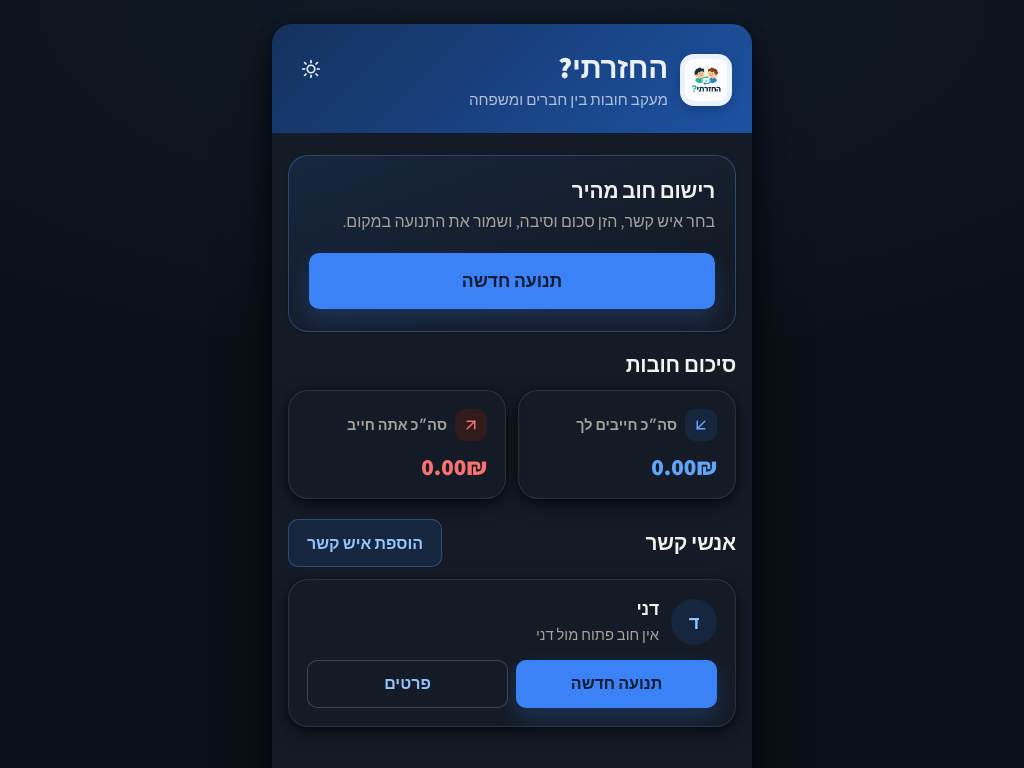
Scenario: App › Edit Member › successfully renames a member and the new name appears in the detail screen
The image size is (1024, 768).
Click the button "פרטים": [408, 684] box [307,660,508,708]
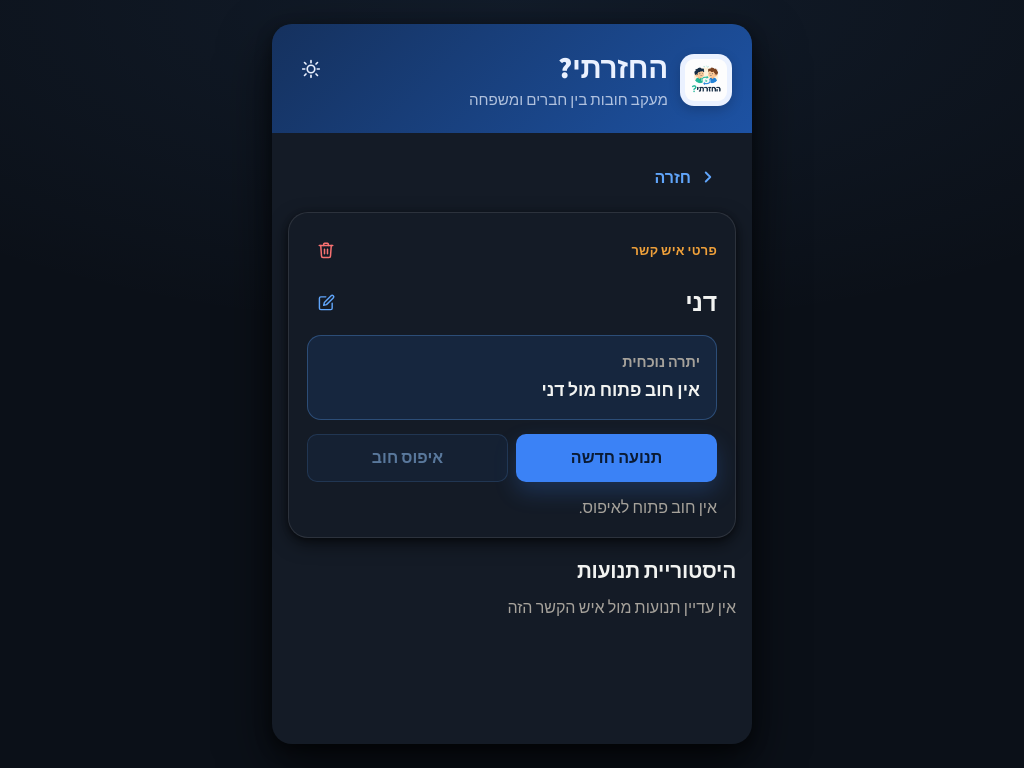
Click the button named "שינוי שם": [326, 302] box [307,283,345,321]
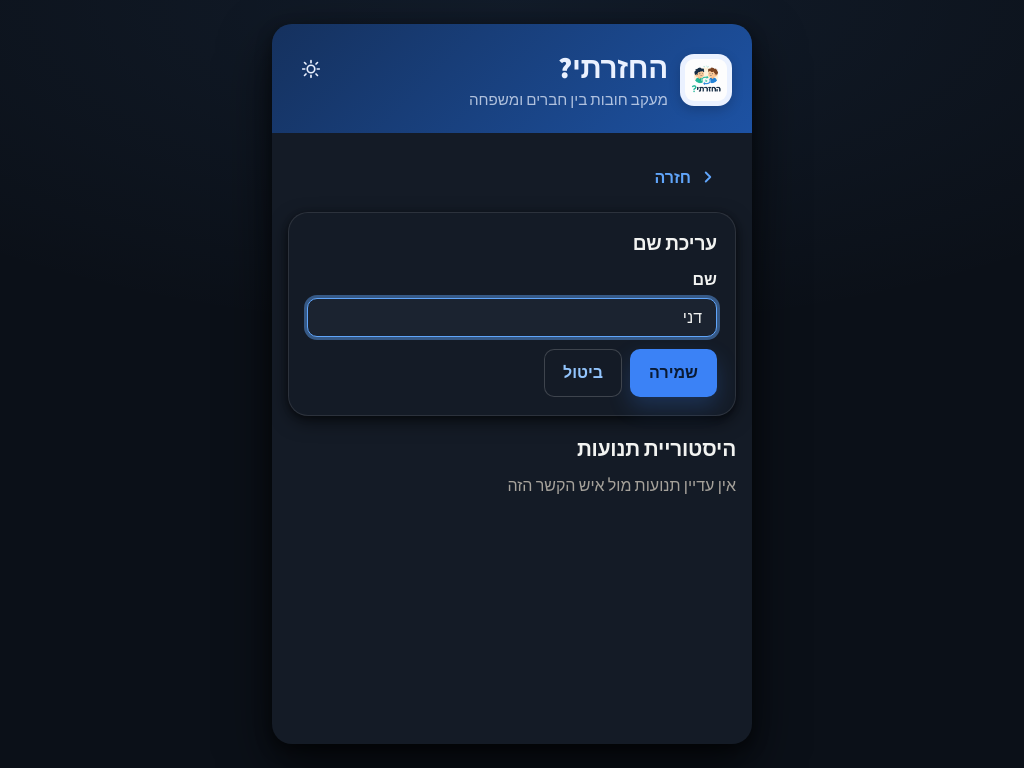
Replace the text in the field labelled "שם" with "דוד": [512, 317] box [307,298,717,337]
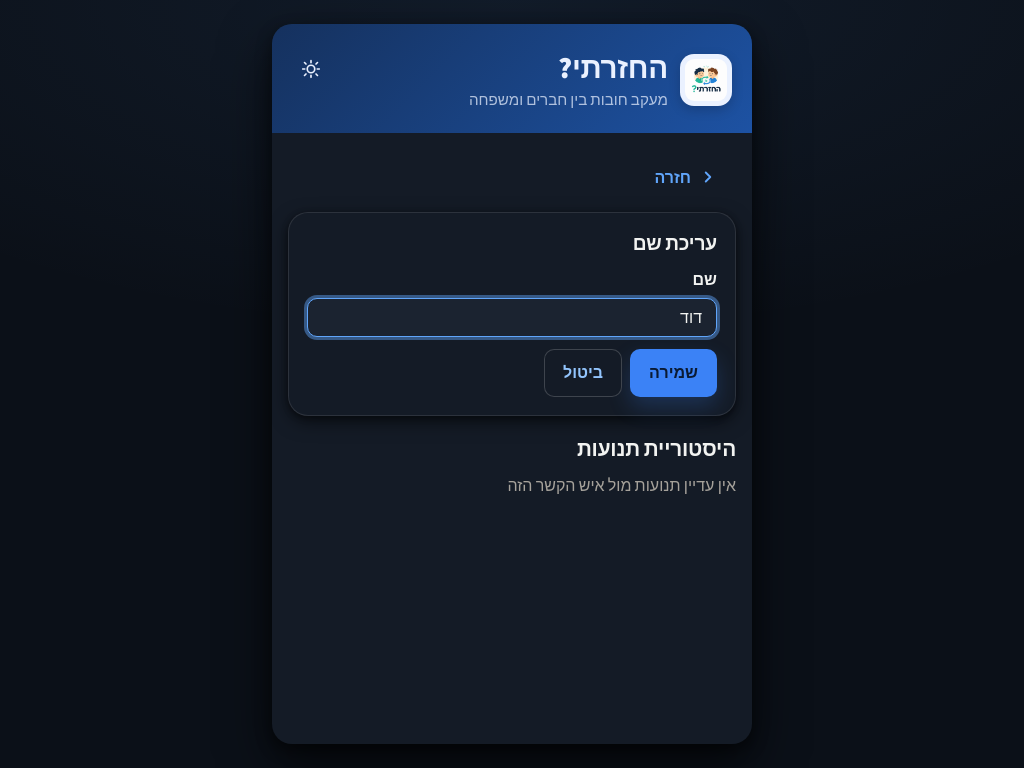
Click the button "שמירה": [674, 373] box [630,349,717,397]
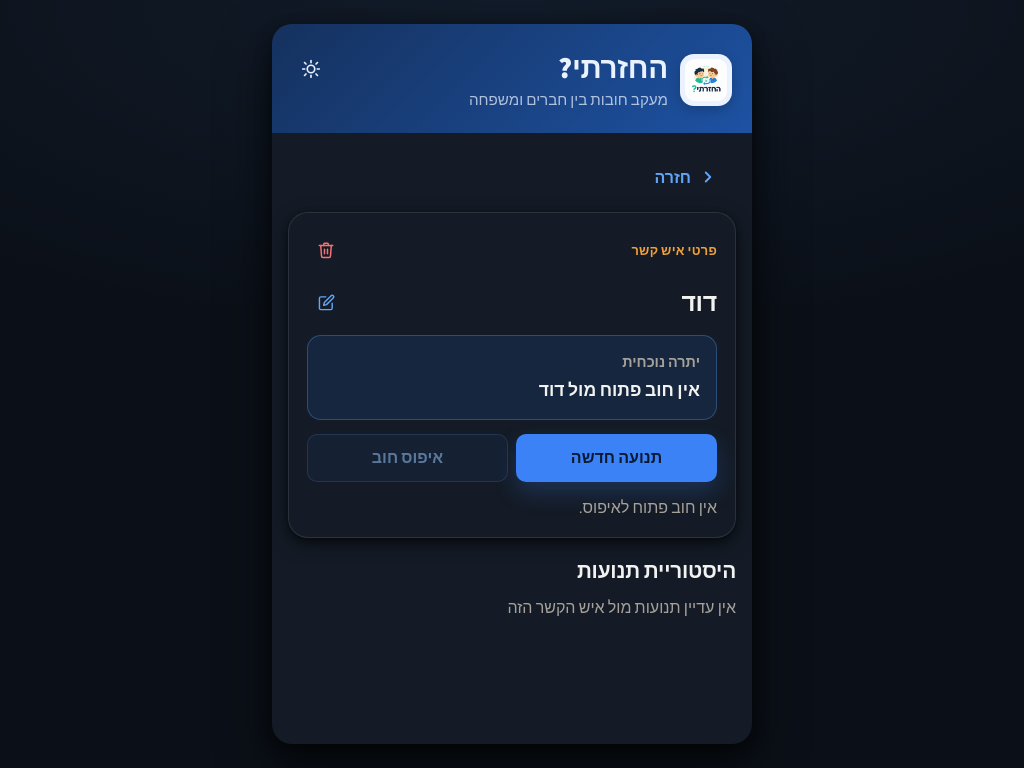
Check: the heading "דוד" is shown, box [681,286,717,318]
Check: the heading "עריכת שם" is gone
